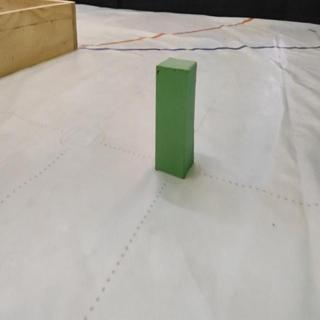greenbox: (153, 55, 198, 178)
